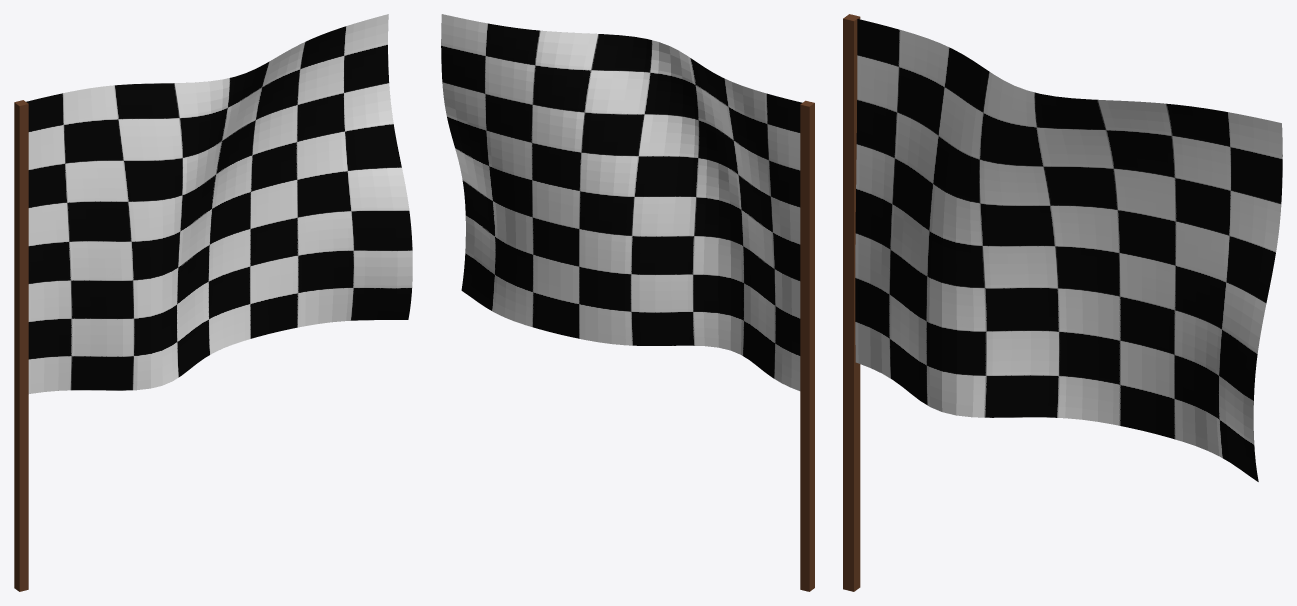
Rendered from Bandera.fbx.
The picture shows the model from 3 angles, left to right: view 1: azimuth 30°, elevation 25°; view 2: azimuth 150°, elevation 25°; view 3: azimuth 330°, elevation 25°; orthographic projection. The views are drawn at different scales.
Visible parts, largest first — view 1: Plane, Cube; view 2: Plane, Cube; view 3: Plane, Cube.
Part boxes in pixels (x1,y1,x2,y2): Plane: [26, 14, 412, 393]; Cube: [14, 100, 28, 591]; Plane: [441, 14, 802, 390]; Cube: [800, 100, 814, 591]; Plane: [855, 19, 1282, 481]; Cube: [843, 14, 860, 591].
Size of the model in its own units: 400 by 500 by 54.25.
